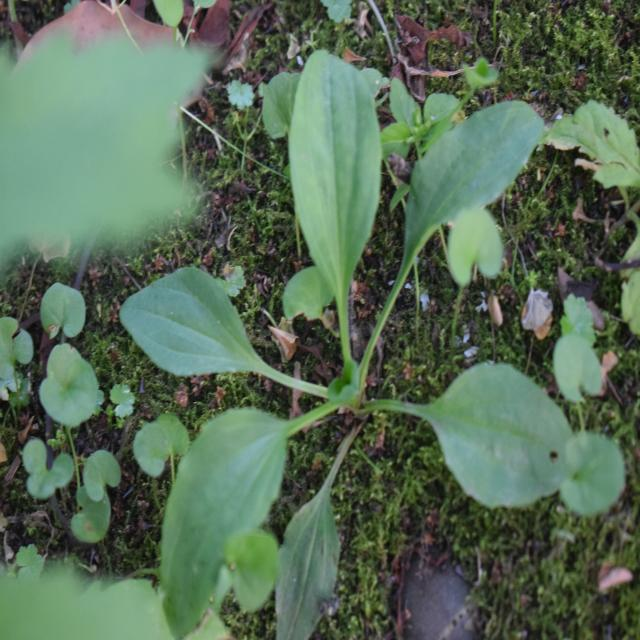plantain: (145, 71, 573, 543)
